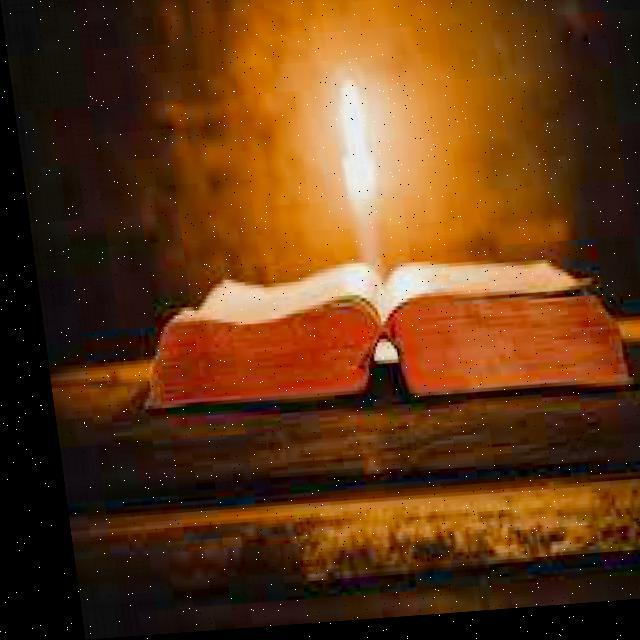Fire: (322, 80, 382, 188)
